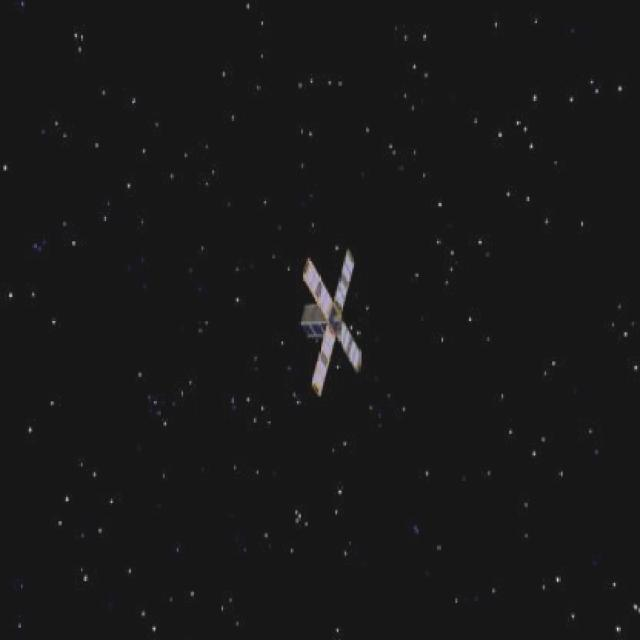medium_debris: (286, 256, 384, 392)
